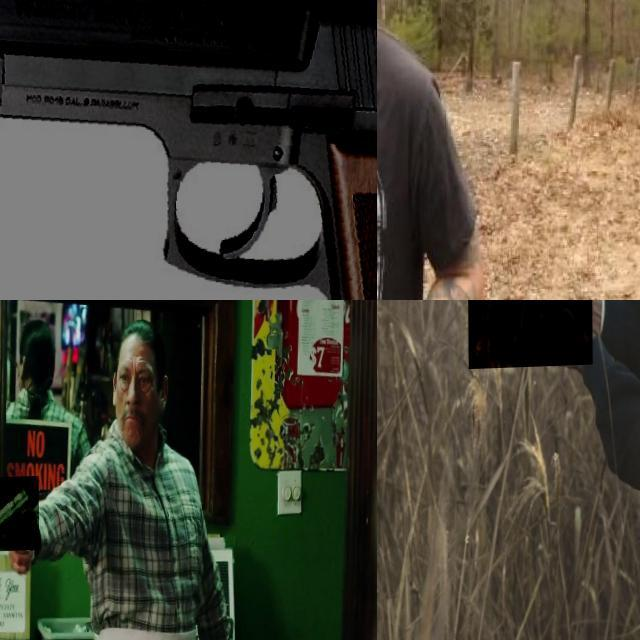gun-knife-thesis - v11 Yolov5 augmented: (0, 0, 377, 300), (467, 300, 592, 398), (0, 476, 38, 552)
